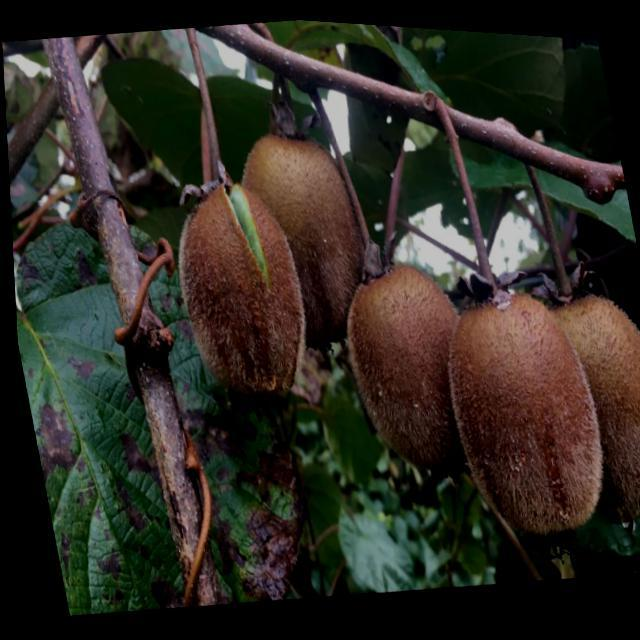kiwi: (431, 271, 623, 564), (226, 105, 395, 356), (158, 162, 321, 413), (331, 247, 500, 489), (519, 255, 640, 533)
